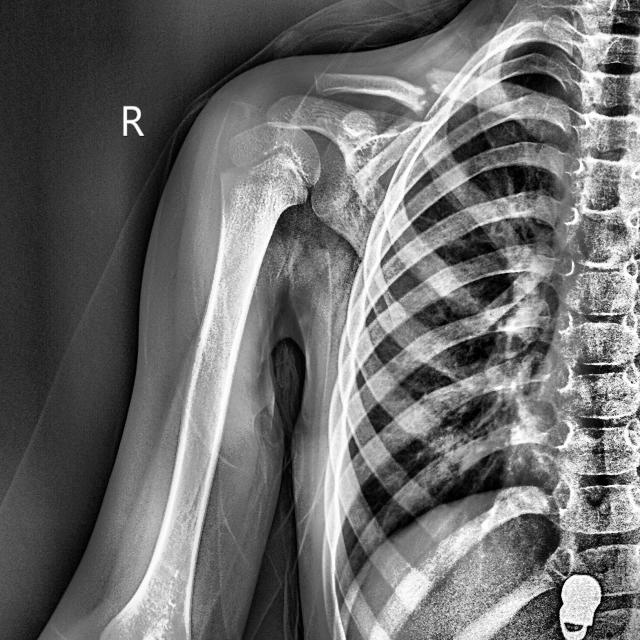Fracture: (404, 64, 451, 116)
